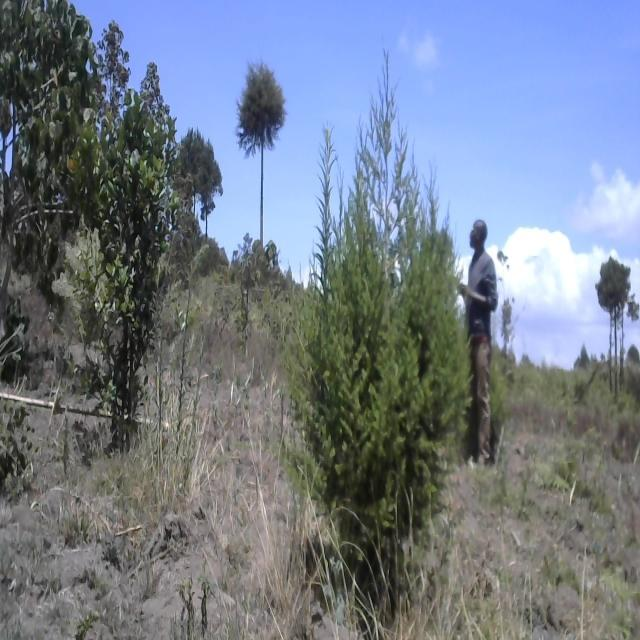cedrus: (291, 53, 467, 626), (234, 51, 293, 258), (586, 245, 640, 386)
other: (3, 6, 96, 452)
